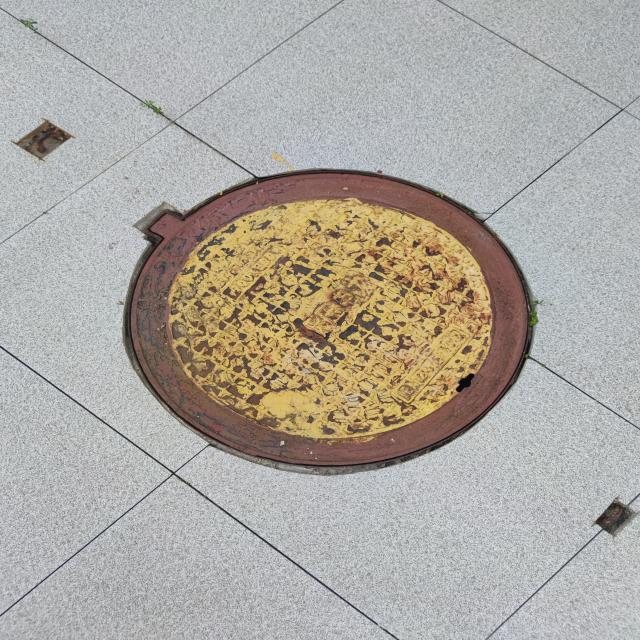Good: (116, 165, 549, 487)
